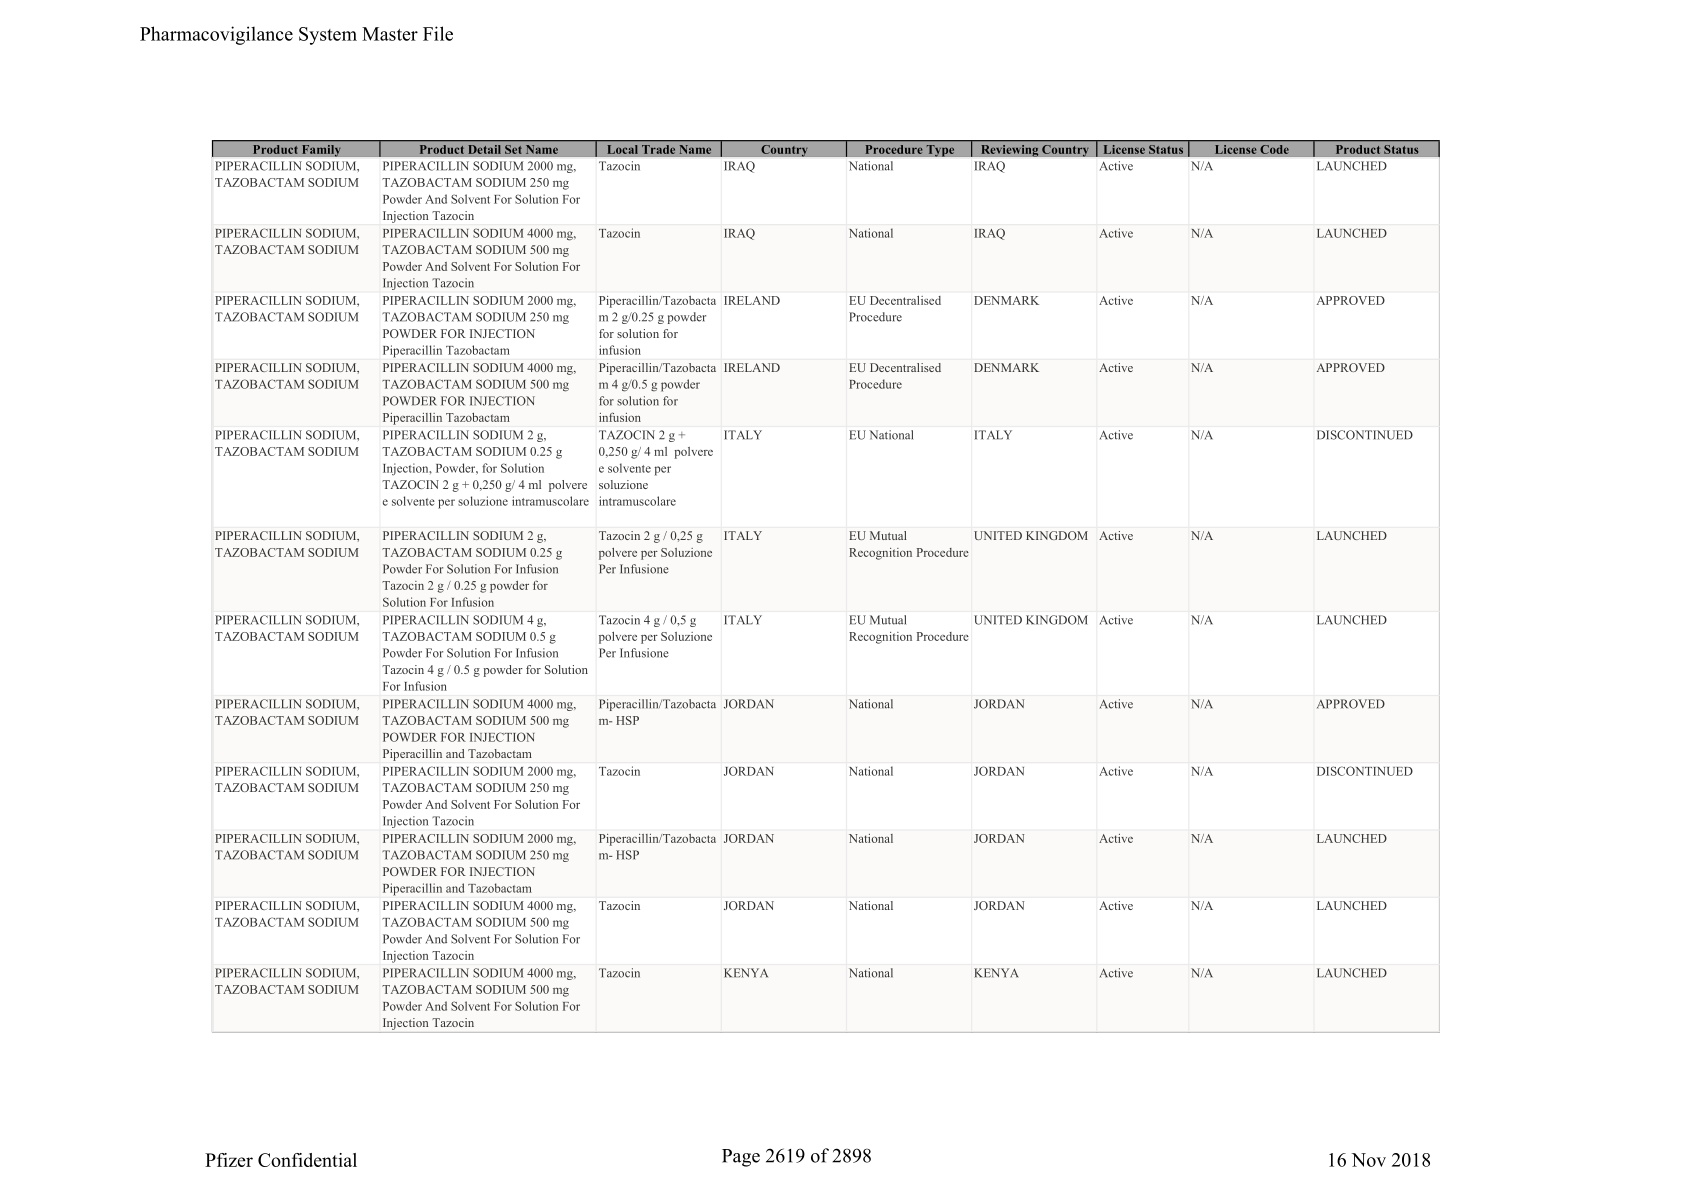full_lined: (211, 139, 1440, 1032)
